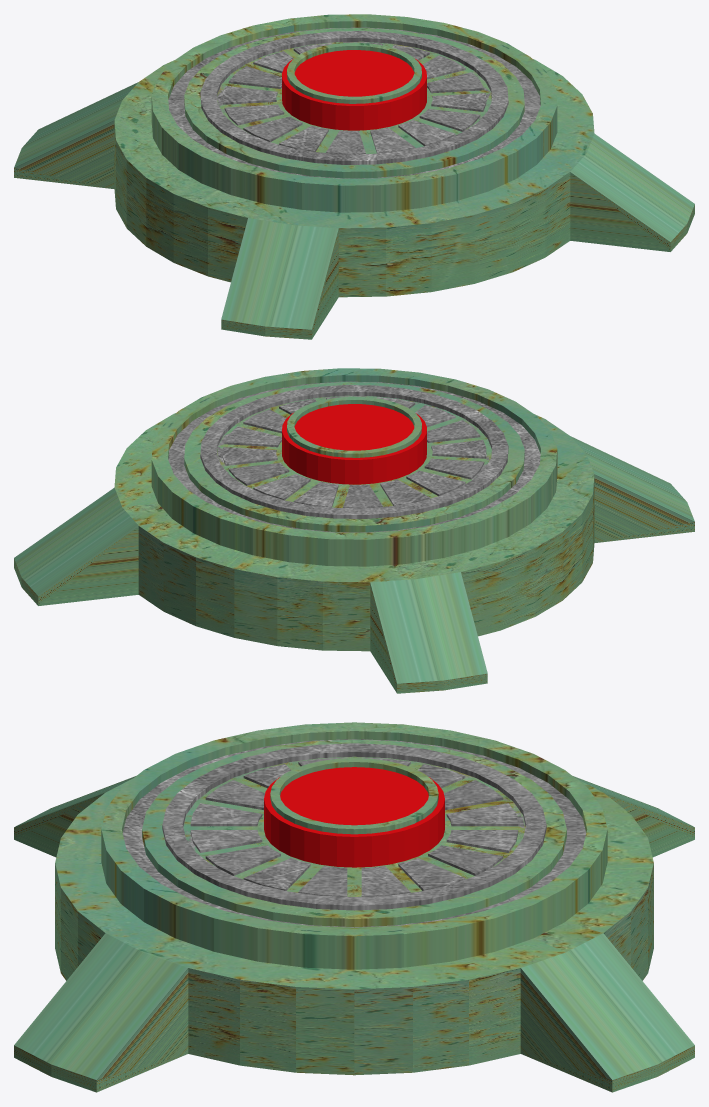
File: minita.fbx
3 renders of one model, top to bottom at view 1: azimuth 30°, elevation 25°; view 2: azimuth 150°, elevation 25°; view 3: azimuth 270°, elevation 25°, orthographic. The views are drawn at different scales.
Parts seen in each view (by area): view 1: Circle; view 2: Circle; view 3: Circle.
Part boxes in pixels (left/top/right/bottom): Circle: left=14, top=14, right=694, bottom=339; Circle: left=14, top=368, right=694, bottom=693; Circle: left=14, top=722, right=694, bottom=1092.
Bounding box in the file's own units: 227 × 57.15 × 227.
Materials: 3 (2 with a texture image).
